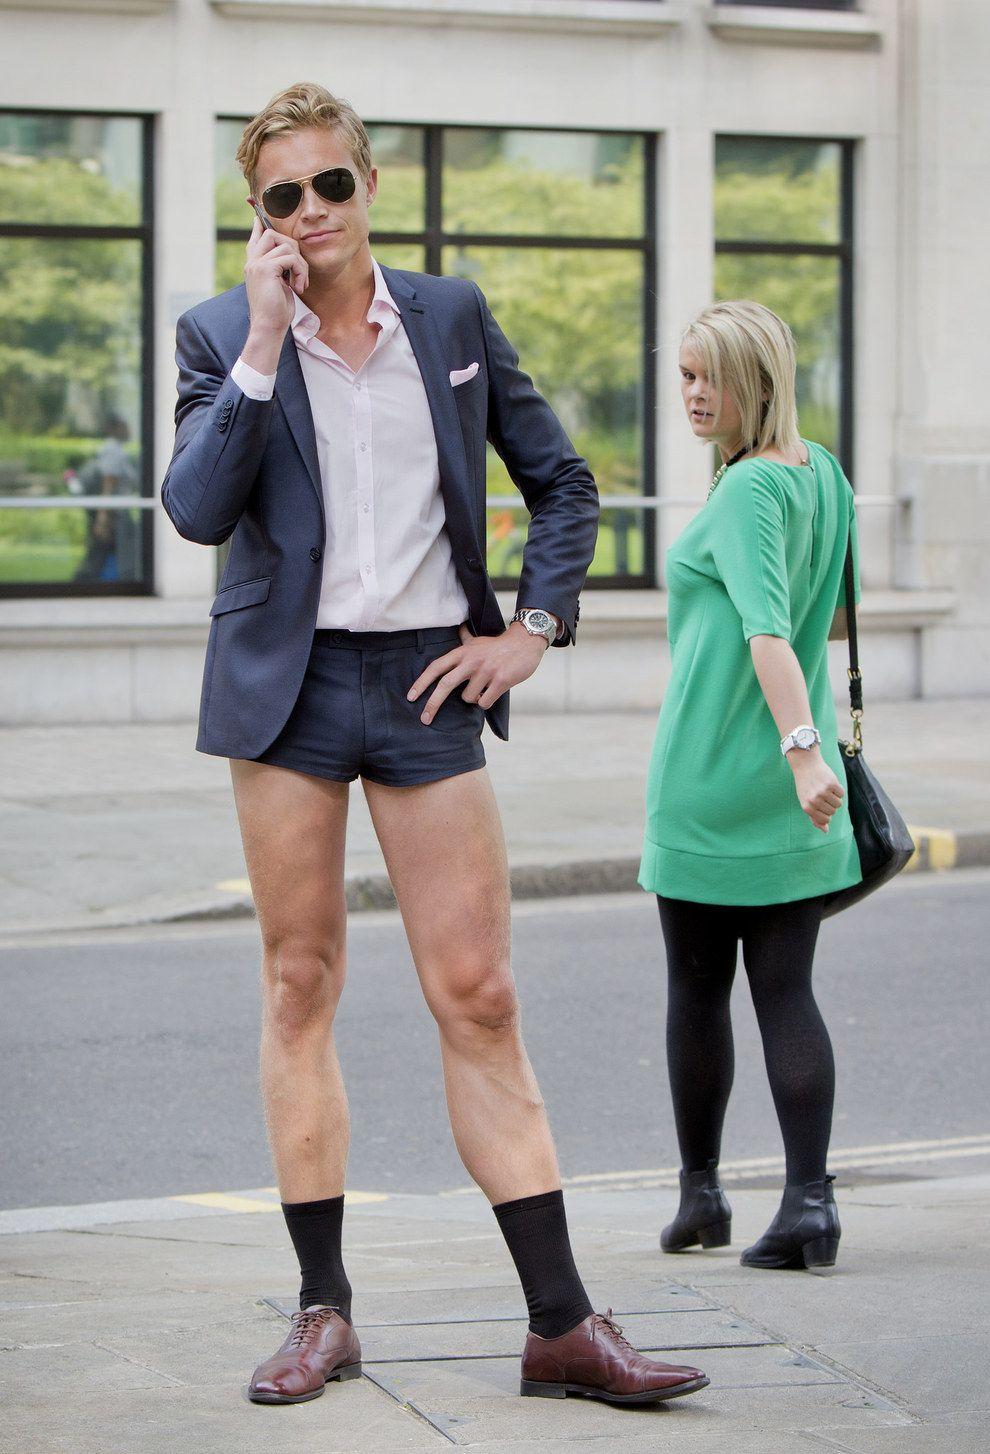Person: (161, 83, 637, 1407), (639, 305, 866, 1265)
